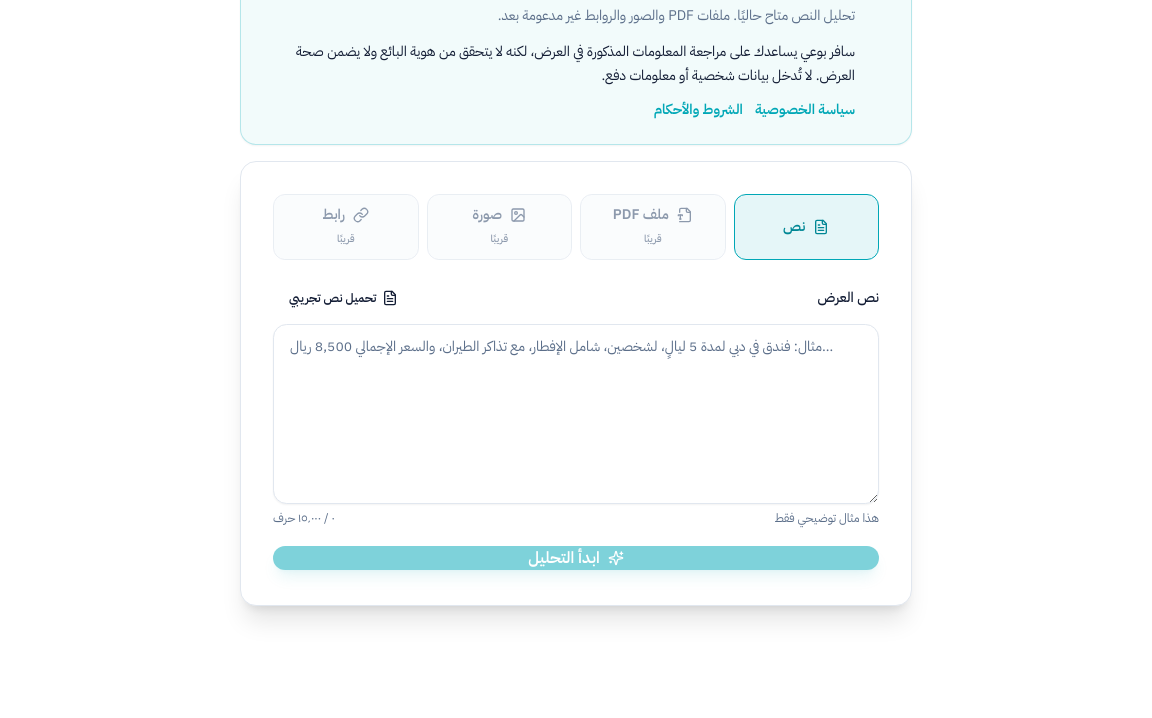
Test: OfferAnalyzer text → API integration › enables the text confirm button on valid input
The width and height of the screenshot is (1152, 718).
(page scrolled)
Replace the text in the text box with "عرض إلى دبي خمس ليالٍ لشخصين شامل الإفطار، السعر ٣٢٠٠ ر.س، التأشيرة غير مشمولة." at (576, 414), box x1=273 y1=324 x2=879 y2=504
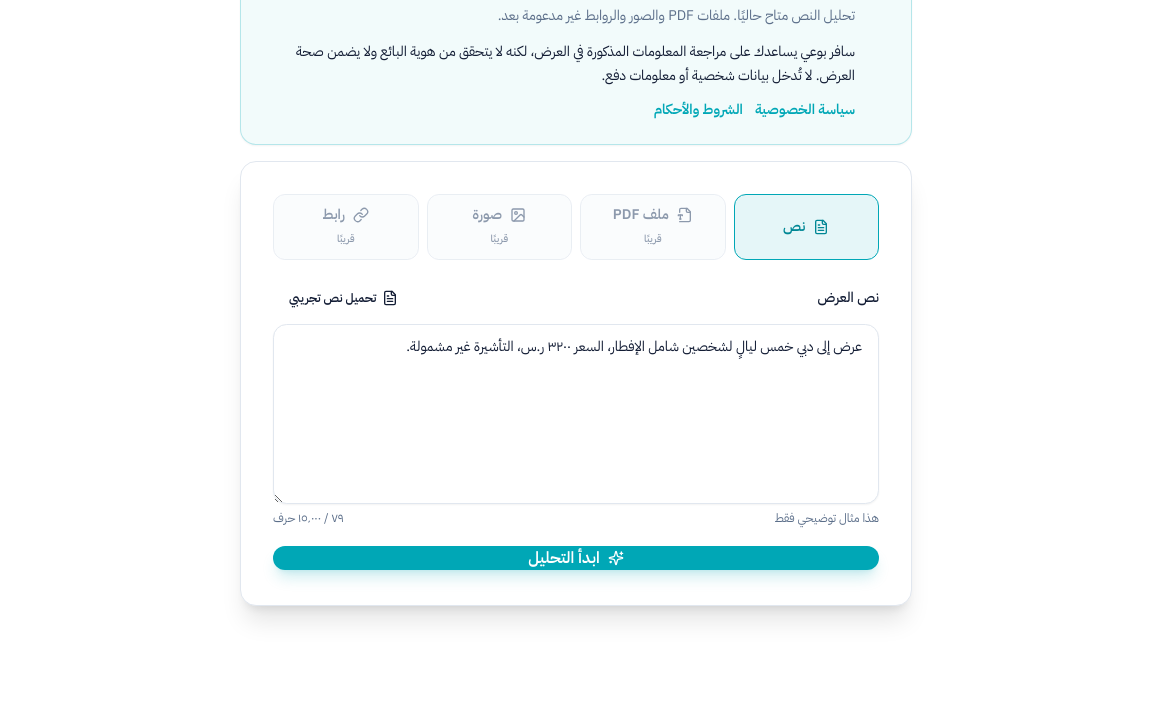
Click the button "ابدأ التحليل".
click(576, 558)  # box x1=273 y1=546 x2=879 y2=570
(page scrolled)
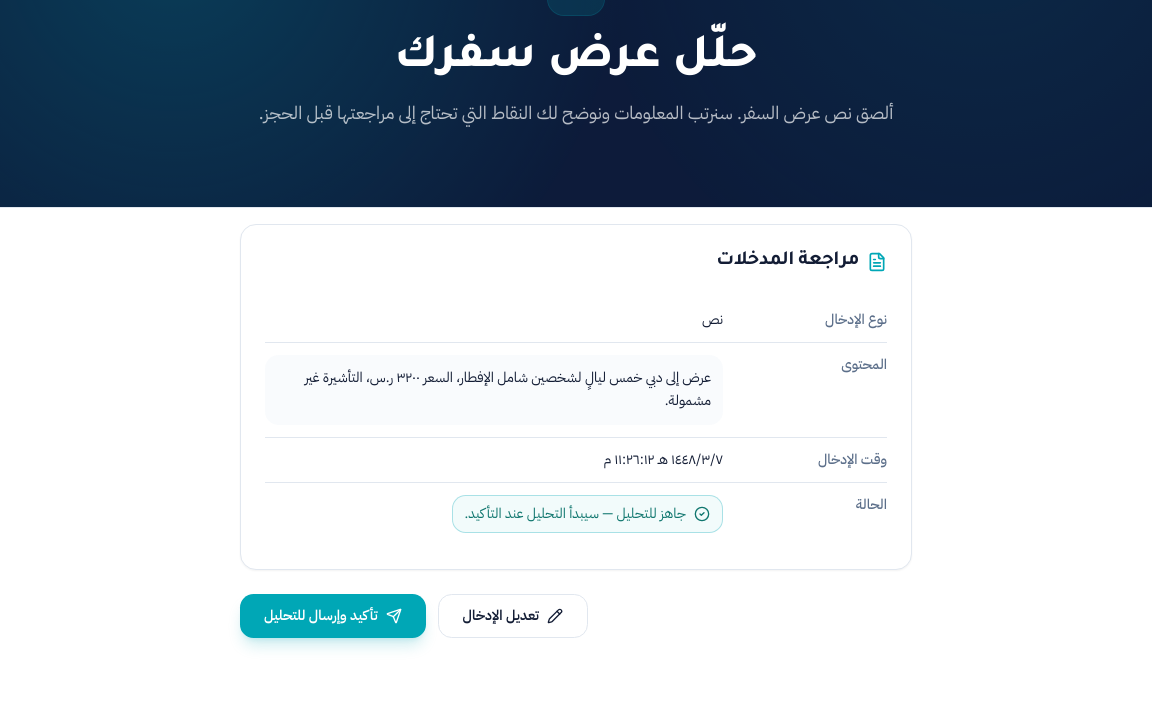
Result: the button "تأكيد وإرسال للتحليل" is enabled at x1=240 y1=594 x2=426 y2=638
